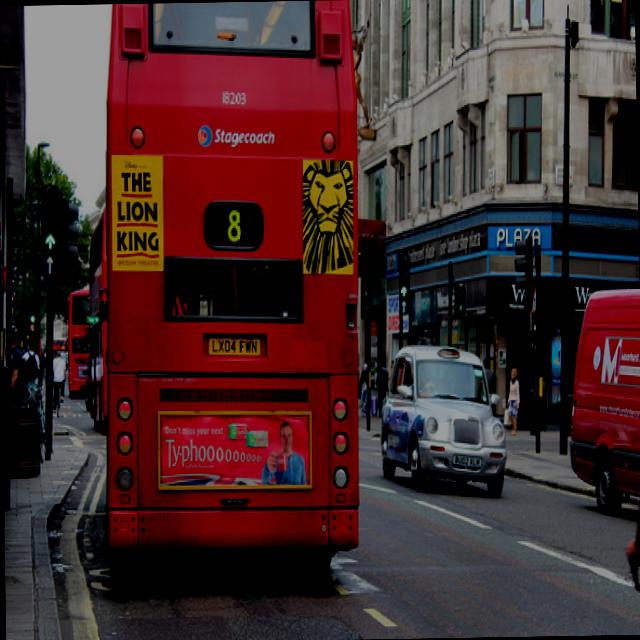Vehicle: (95, 0, 361, 589), (377, 341, 507, 497), (566, 284, 640, 513), (86, 202, 108, 428), (66, 289, 90, 398)
